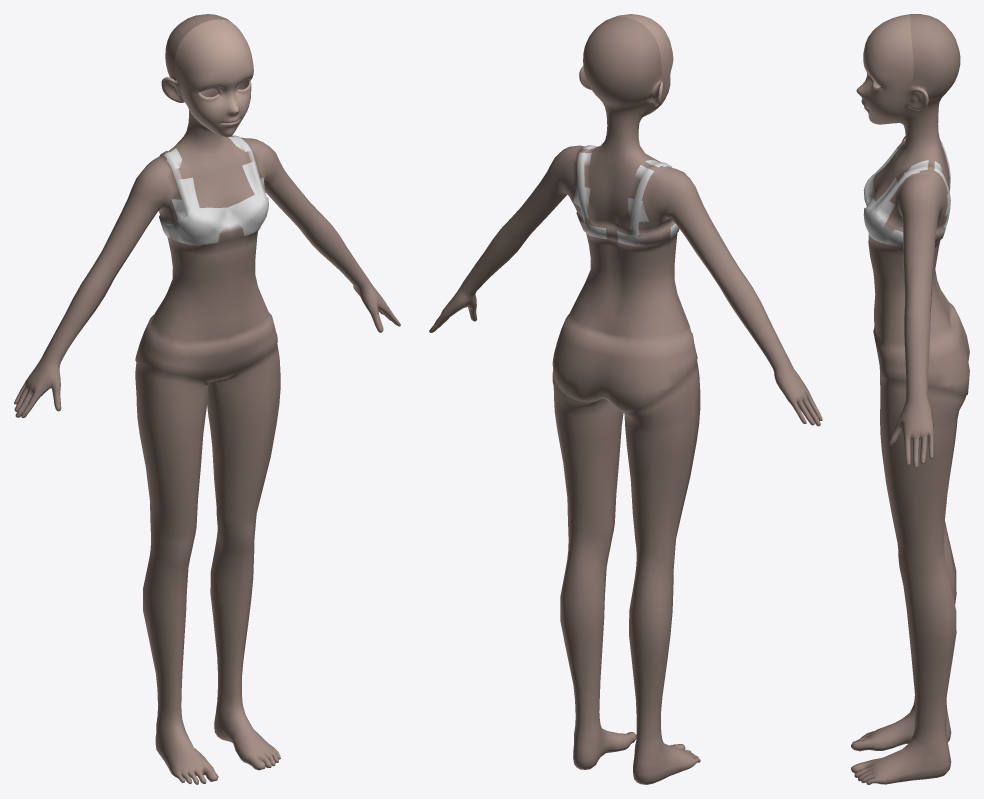
The model's file is F_Stylized Base_SeamMesh.fbx.
3 views of the same model, side by side, from view 1: azimuth 30°, elevation 25°; view 2: azimuth 150°, elevation 25°; view 3: azimuth 270°, elevation 25° (orthographic).
Visible parts, largest first — view 1: F_CombinedMesh; view 2: F_CombinedMesh; view 3: F_CombinedMesh.
Boxes of the visible parts, x1=… form: F_CombinedMesh: x1=14, y1=14, x2=400, y2=784; F_CombinedMesh: x1=429, y1=14, x2=822, y2=784; F_CombinedMesh: x1=851, y1=14, x2=969, y2=784.
Size of the model in its own units: 0.8682 by 1.6 by 0.2311.
